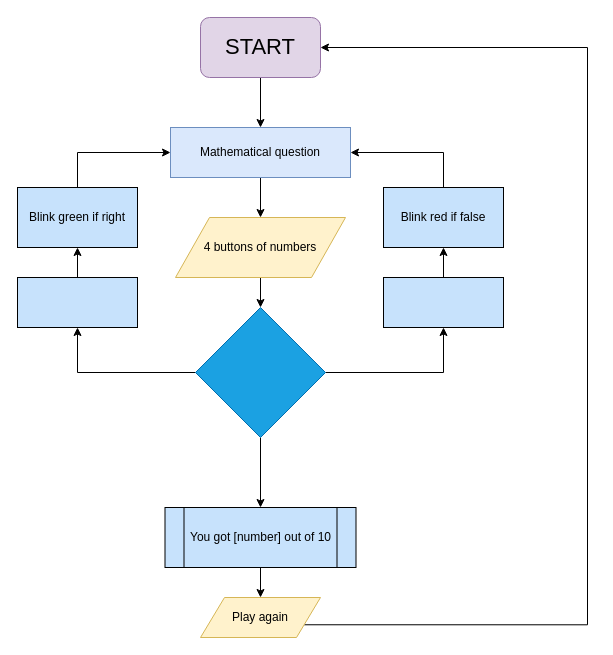
Some shapes in this 613 by 655 pixel diagram are drawn without their labels. The shapes that lost their labels are listed below. From the top down, each one's centre as x and y in pixels, then its label:
(77,302): Increase right counter
(443,302): Increase wrong counter
(260,372): True / false Repeat 10 times
